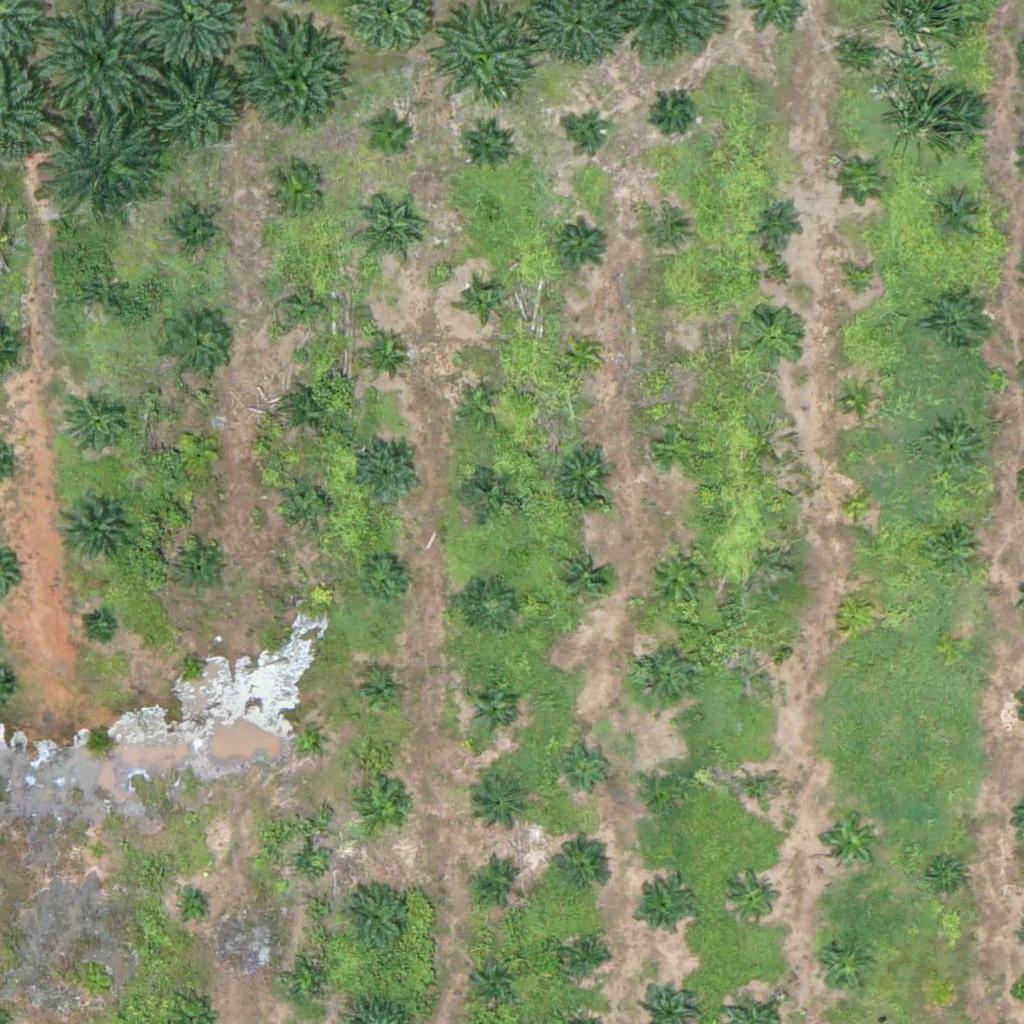Kelapa_Sawit: (44, 105, 169, 231), (235, 25, 348, 139), (424, 7, 536, 120), (154, 66, 242, 154), (337, 879, 412, 955), (58, 491, 133, 567), (812, 934, 875, 997), (471, 772, 534, 835), (356, 205, 419, 268), (262, 159, 325, 222), (629, 643, 692, 706), (928, 288, 991, 351), (819, 811, 882, 874), (358, 441, 421, 504), (924, 418, 987, 481), (929, 88, 992, 151), (273, 276, 336, 339), (550, 841, 613, 904), (634, 879, 696, 942), (166, 314, 228, 377), (66, 393, 128, 456), (553, 445, 615, 508), (647, 546, 709, 609), (743, 306, 805, 369), (70, 263, 132, 326), (728, 872, 778, 923), (465, 580, 515, 631), (933, 192, 983, 243), (463, 462, 513, 513), (283, 384, 333, 435), (359, 327, 409, 378), (284, 478, 334, 529), (163, 205, 213, 256), (172, 424, 222, 475), (360, 551, 410, 602), (558, 551, 608, 602), (732, 766, 782, 817), (644, 764, 694, 815), (562, 741, 612, 792), (470, 683, 520, 734), (463, 120, 513, 170), (359, 785, 409, 835), (557, 218, 607, 268), (927, 519, 977, 569), (753, 197, 803, 247), (653, 422, 703, 472), (456, 382, 506, 432), (364, 115, 414, 165), (178, 545, 228, 595), (560, 930, 610, 980), (468, 950, 518, 1000), (473, 855, 523, 905), (355, 668, 405, 718), (847, 162, 885, 200), (654, 90, 692, 128), (840, 263, 878, 301), (838, 382, 876, 420), (840, 489, 878, 527), (836, 589, 874, 627), (562, 336, 600, 374), (465, 281, 503, 319), (927, 860, 965, 898), (571, 116, 608, 154), (648, 214, 685, 252), (660, 343, 697, 381), (743, 641, 780, 679), (842, 34, 879, 71), (87, 614, 112, 640), (299, 970, 324, 996), (292, 725, 317, 750), (297, 853, 322, 878), (180, 896, 205, 921), (180, 652, 205, 677), (86, 841, 111, 866)
